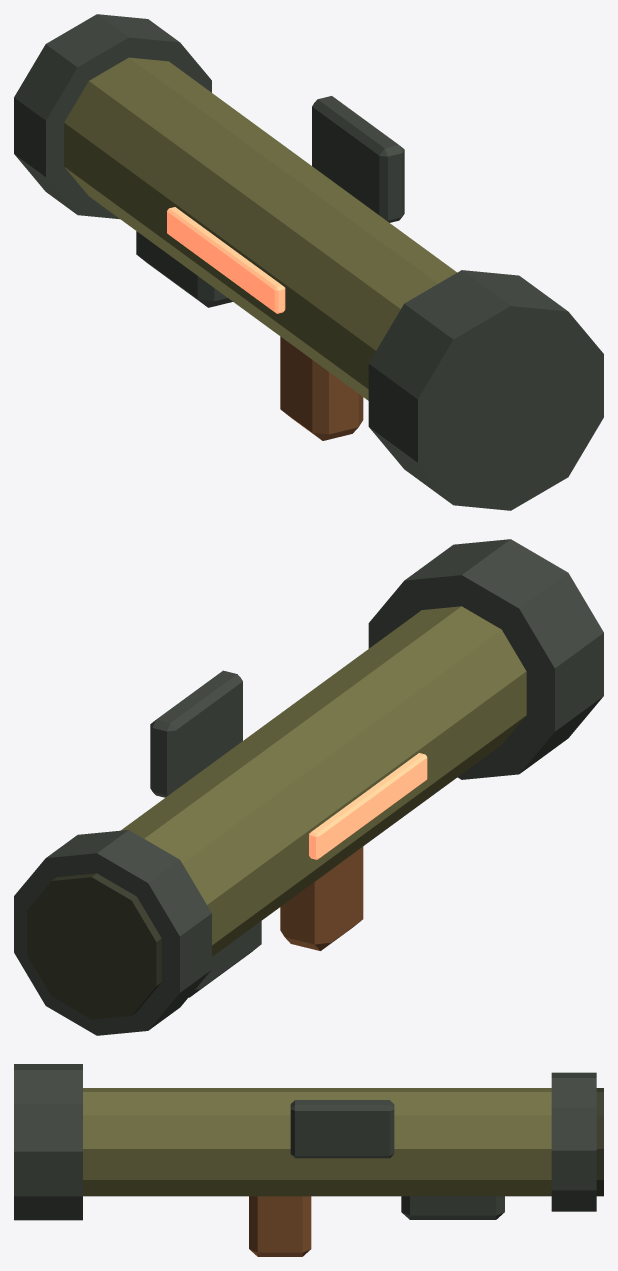
File: bazooka.glb
3 renders of one model, top to bottom at view 1: azimuth 30°, elevation 25°; view 2: azimuth 150°, elevation 25°; view 3: azimuth 270°, elevation 25°, orthographic. The views are drawn at different scales.
Parts seen in each view (by area): view 1: Bazooka_Tube, Bazooka_RearVent, Bazooka_FrontRing, Bazooka_sight, Bazooka_grip, Bazooka_owner_strip, Bazooka_forward_grip; view 2: Bazooka_Tube, Bazooka_RearVent, Bazooka_FrontRing, Bazooka_DarkMuzzle, Bazooka_sight, Bazooka_grip, Bazooka_owner_strip, Bazooka_forward_grip; view 3: Bazooka_Tube, Bazooka_RearVent, Bazooka_FrontRing, Bazooka_sight, Bazooka_grip, Bazooka_forward_grip, Bazooka_DarkMuzzle.
Part boxes in pixels (box(x1,y1,x2,y2)): Bazooka_Tube: box(64, 57, 456, 400); Bazooka_RearVent: box(368, 270, 603, 510); Bazooka_FrontRing: box(14, 14, 211, 219); Bazooka_sight: box(312, 96, 404, 222); Bazooka_grip: box(280, 336, 363, 440); Bazooka_owner_strip: box(167, 207, 285, 313); Bazooka_forward_grip: box(136, 231, 232, 307); Bazooka_Tube: box(121, 606, 526, 956); Bazooka_RearVent: box(368, 539, 603, 779); Bazooka_FrontRing: box(14, 830, 211, 1035); Bazooka_DarkMuzzle: box(27, 873, 161, 1019); Bazooka_sight: box(150, 670, 242, 797); Bazooka_grip: box(280, 846, 363, 950); Bazooka_owner_strip: box(309, 753, 427, 859); Bazooka_forward_grip: box(189, 921, 261, 997); Bazooka_Tube: box(83, 1088, 551, 1196); Bazooka_RearVent: box(14, 1064, 82, 1220); Bazooka_FrontRing: box(551, 1072, 596, 1211); Bazooka_sight: box(290, 1100, 394, 1158); Bazooka_grip: box(249, 1196, 311, 1256); Bazooka_forward_grip: box(401, 1196, 504, 1219); Bazooka_DarkMuzzle: box(596, 1088, 603, 1196).
Bounding box in the file's own units: 0.4387 × 0.58 × 1.71.
